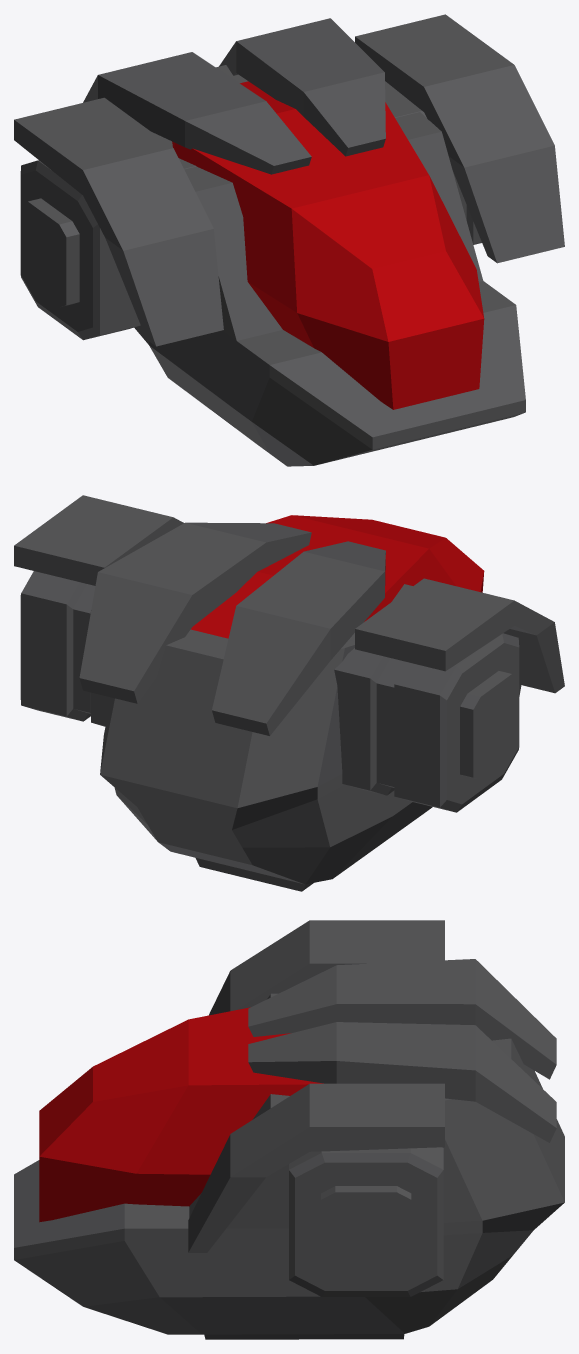
The model's file is GuardCockpit_001.fbx.
The picture shows the model from 3 angles, top to bottom: view 1: azimuth 30°, elevation 25°; view 2: azimuth 150°, elevation 25°; view 3: azimuth 270°, elevation 25°; orthographic projection.
Visible parts, largest first — view 1: Body; view 2: Body; view 3: Body.
Boxes of the visible parts, bbox=[...] form: Body: bbox=[14, 14, 564, 466]; Body: bbox=[14, 495, 564, 891]; Body: bbox=[14, 920, 564, 1339].
Size of the model in its own units: 155 by 101 by 167.
